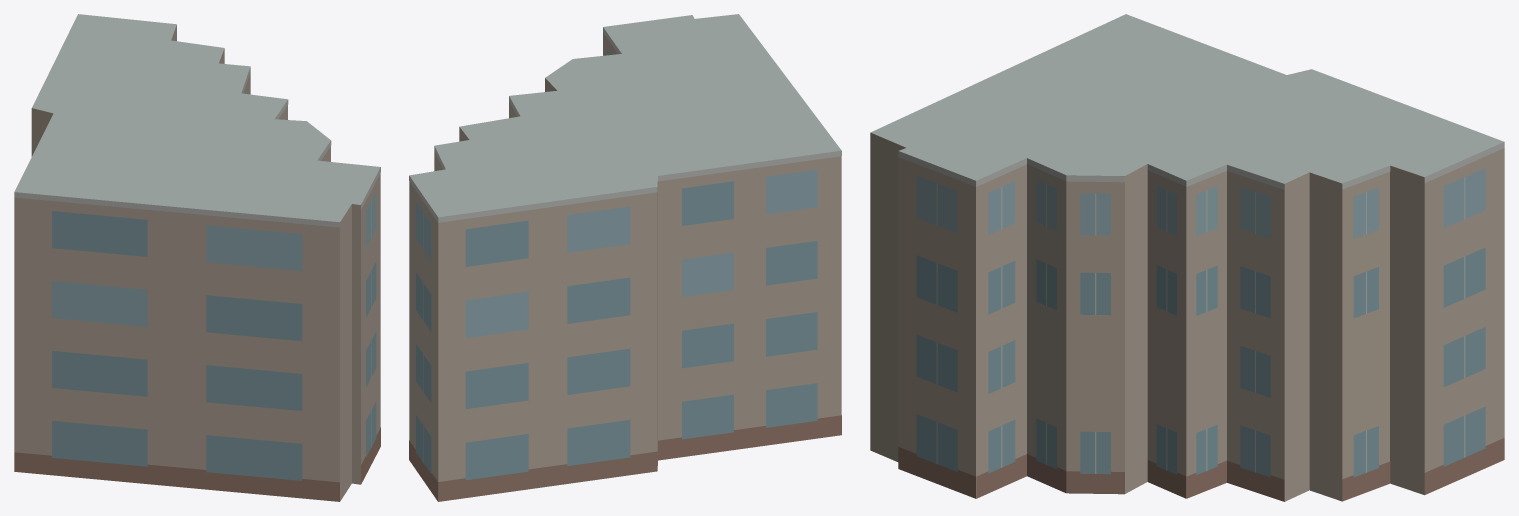
Rendered from survey-upis-32924469.glb.
3 views of the same model, side by side, from view 1: azimuth 30°, elevation 25°; view 2: azimuth 150°, elevation 25°; view 3: azimuth 270°, elevation 25° (orthographic). The views are drawn at different scales.
Parts seen in each view (by area): view 1: survey-upis-32924469.tmp; view 2: survey-upis-32924469.tmp; view 3: survey-upis-32924469.tmp.
Part boxes in pixels (bbox=[...]): survey-upis-32924469.tmp: bbox=[14, 14, 380, 501]; survey-upis-32924469.tmp: bbox=[409, 14, 841, 501]; survey-upis-32924469.tmp: bbox=[870, 14, 1504, 501].
Bounding box in the file's own units: 14.56 × 12.7 × 22.96.
